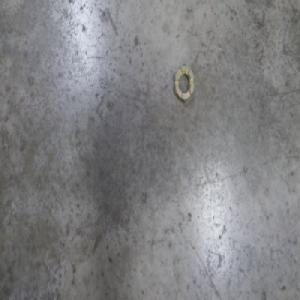Nut: (173, 61, 194, 103)
